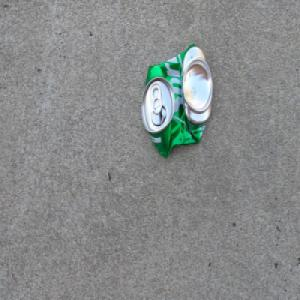SodaCan: (140, 42, 213, 159)
